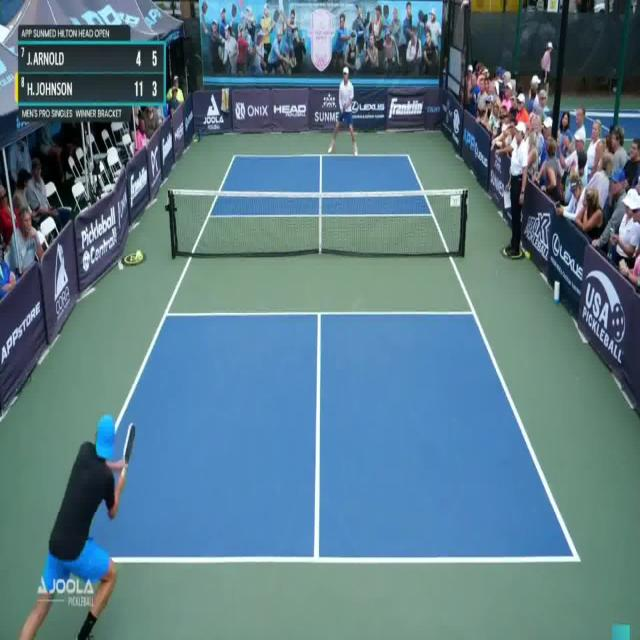Court: (94, 153, 574, 561)
